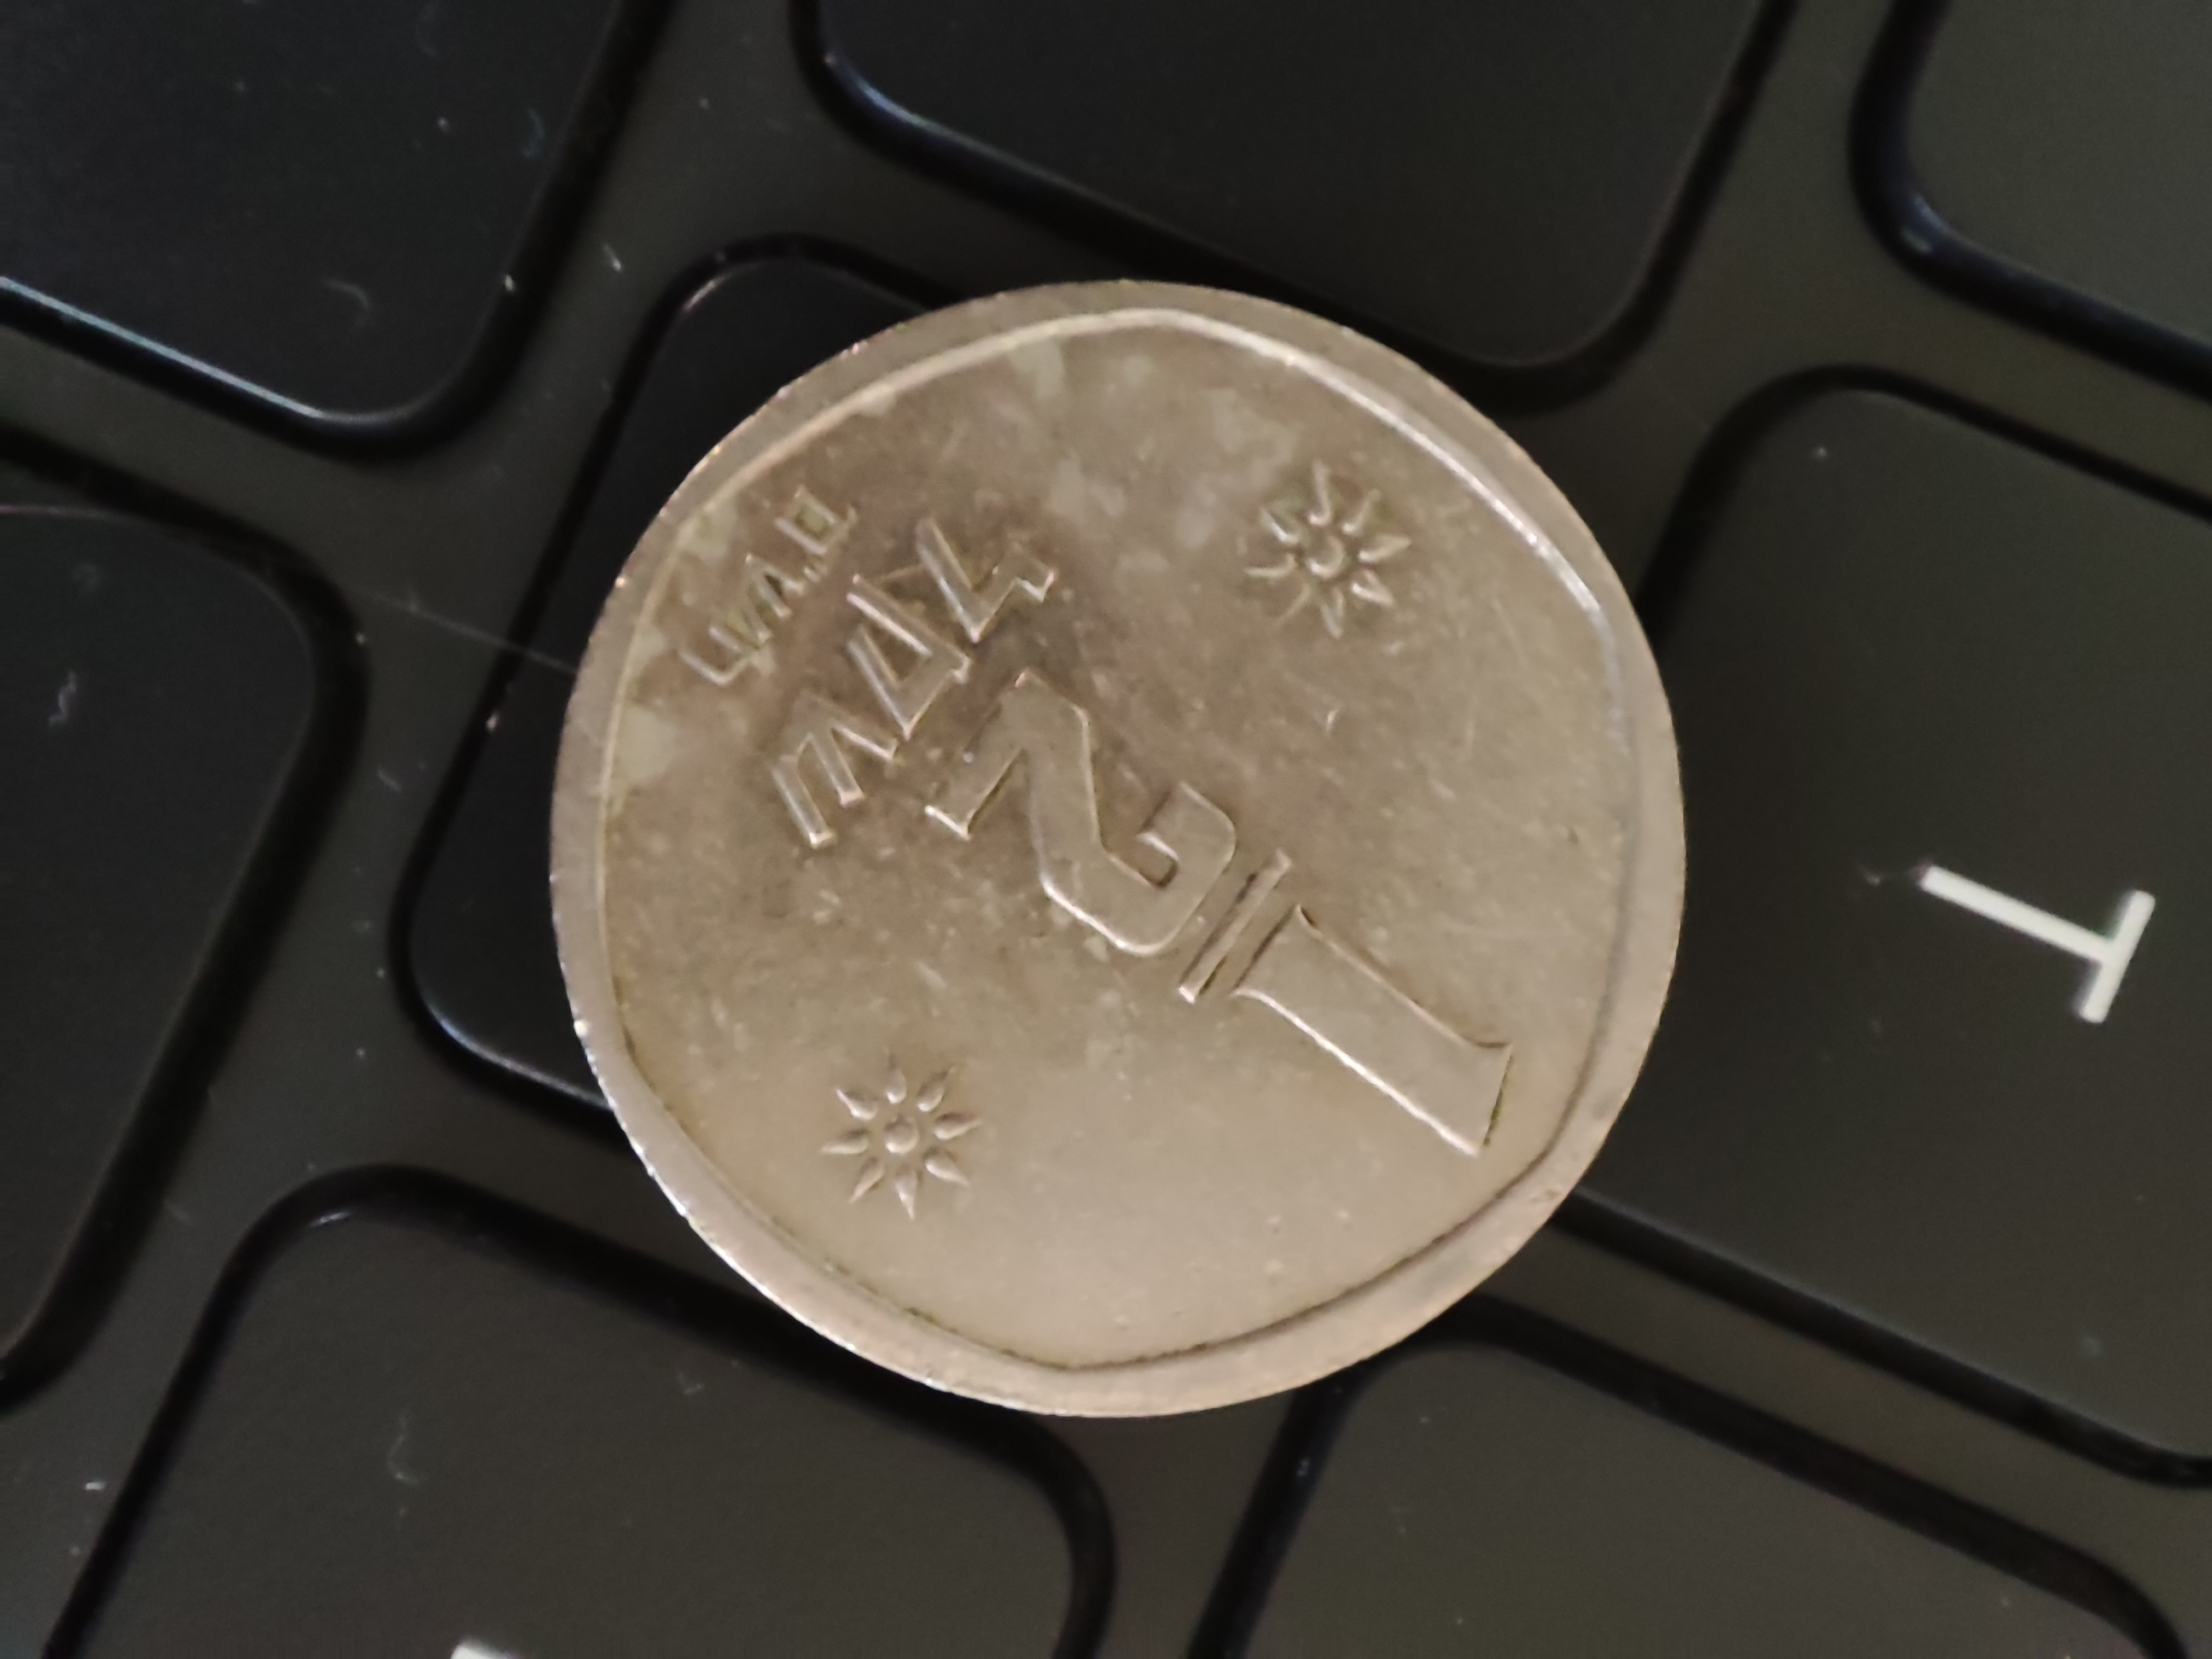1/2 old sheqel: (542, 275, 1695, 1427)
